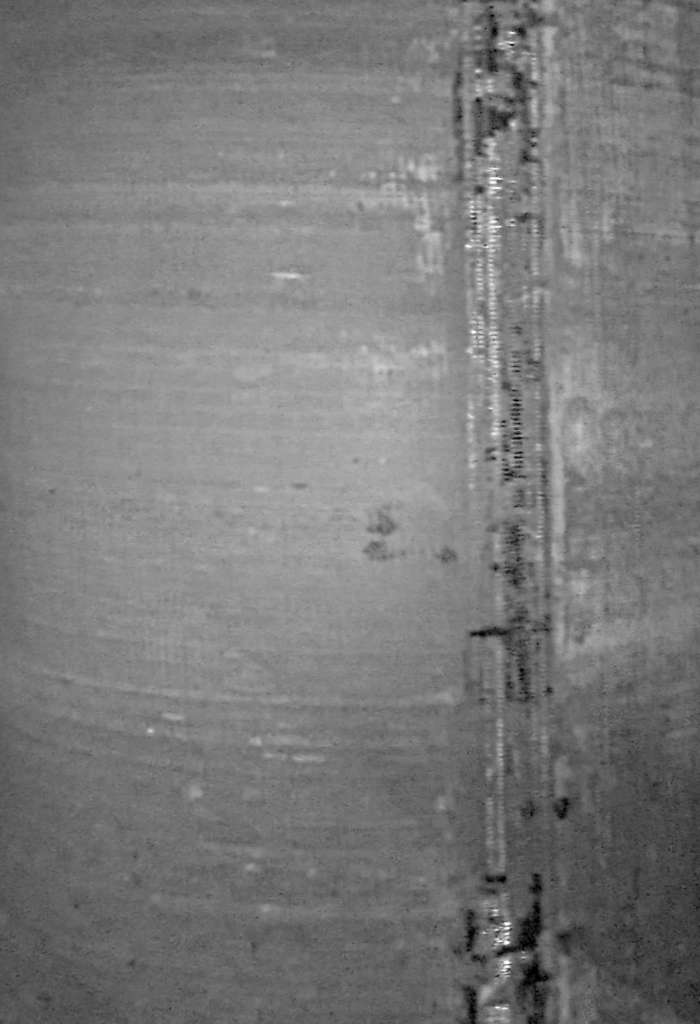splice: (449, 1, 562, 1024)
